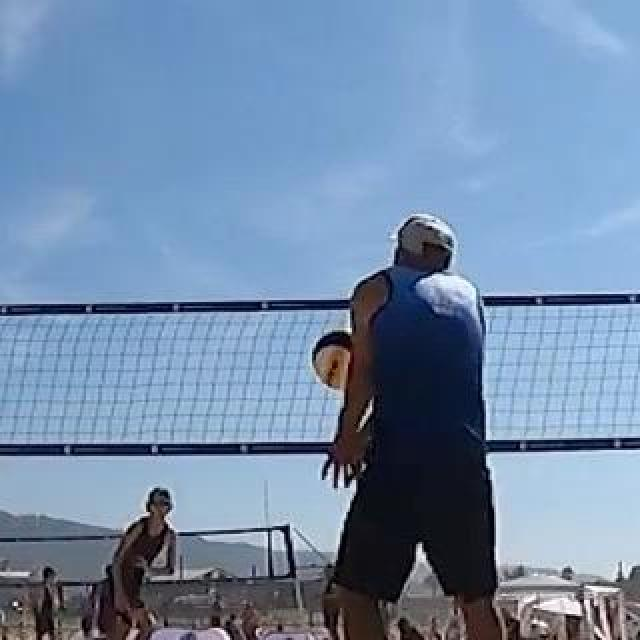volleyball: (312, 330, 364, 390)
